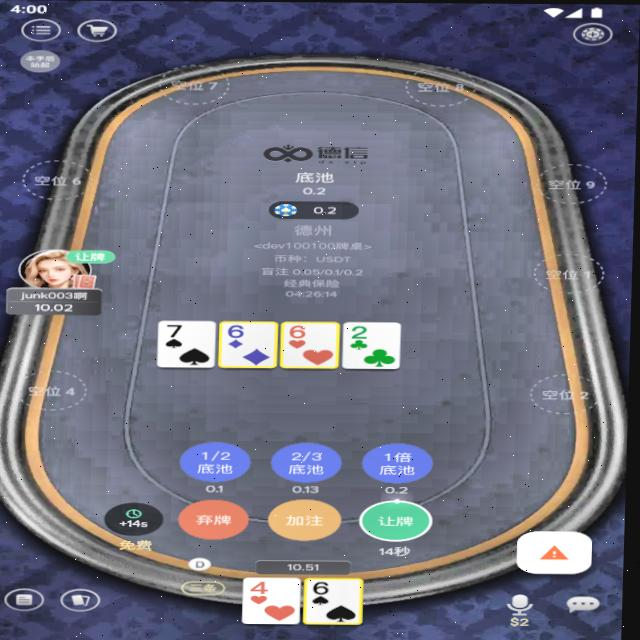2m: (348, 323, 379, 340)
4h: (249, 579, 278, 595)
6f: (226, 322, 251, 340)
6h: (284, 322, 316, 339)
6s: (312, 579, 338, 596)
7s: (162, 322, 192, 339)
